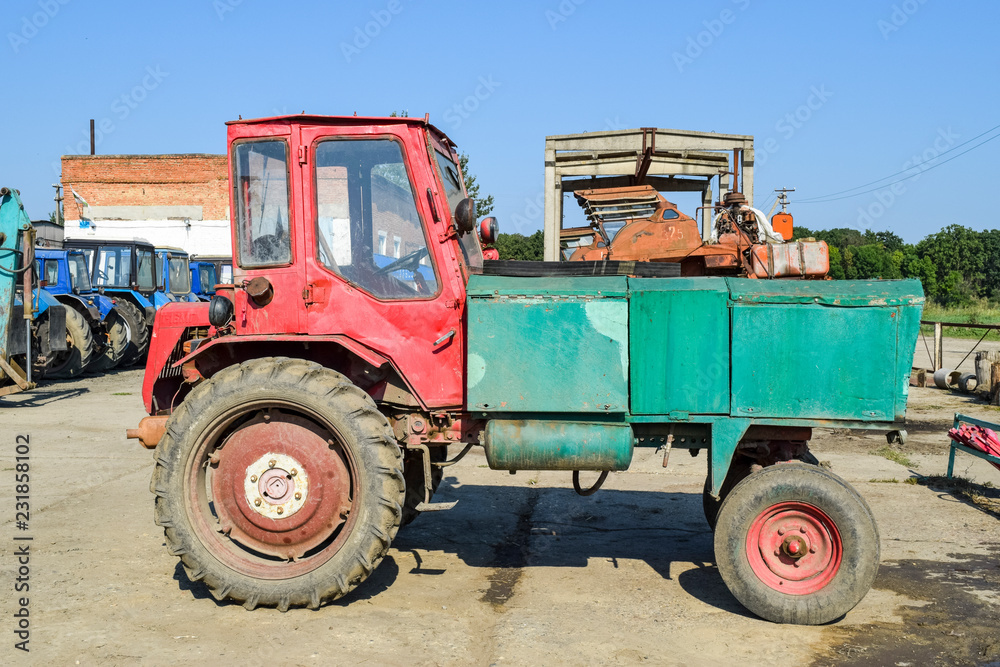tractor: (140, 110, 926, 628)
